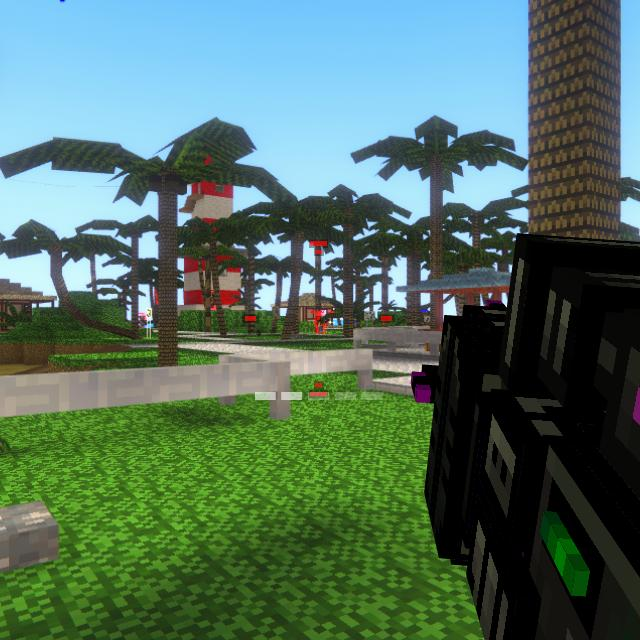Enemy: (316, 315, 327, 333), (140, 316, 146, 327)
